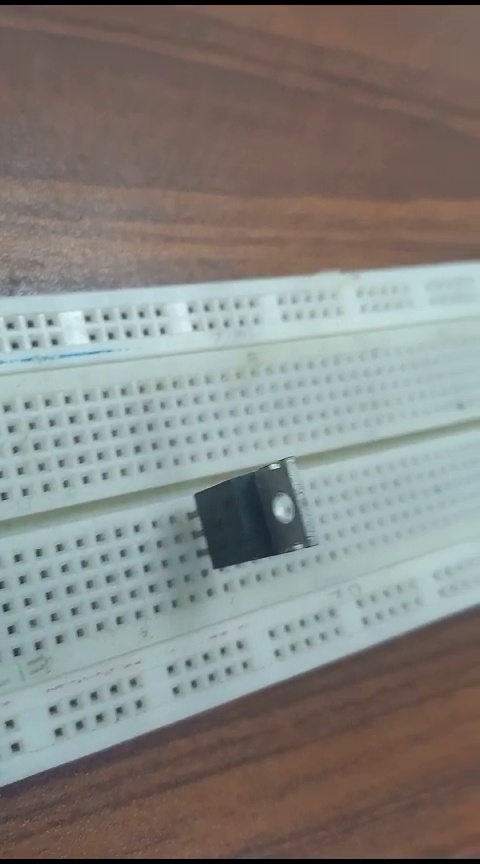voltage regulator: (181, 461, 324, 577)
